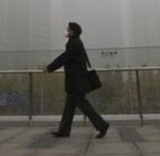person: (43, 21, 110, 139)
